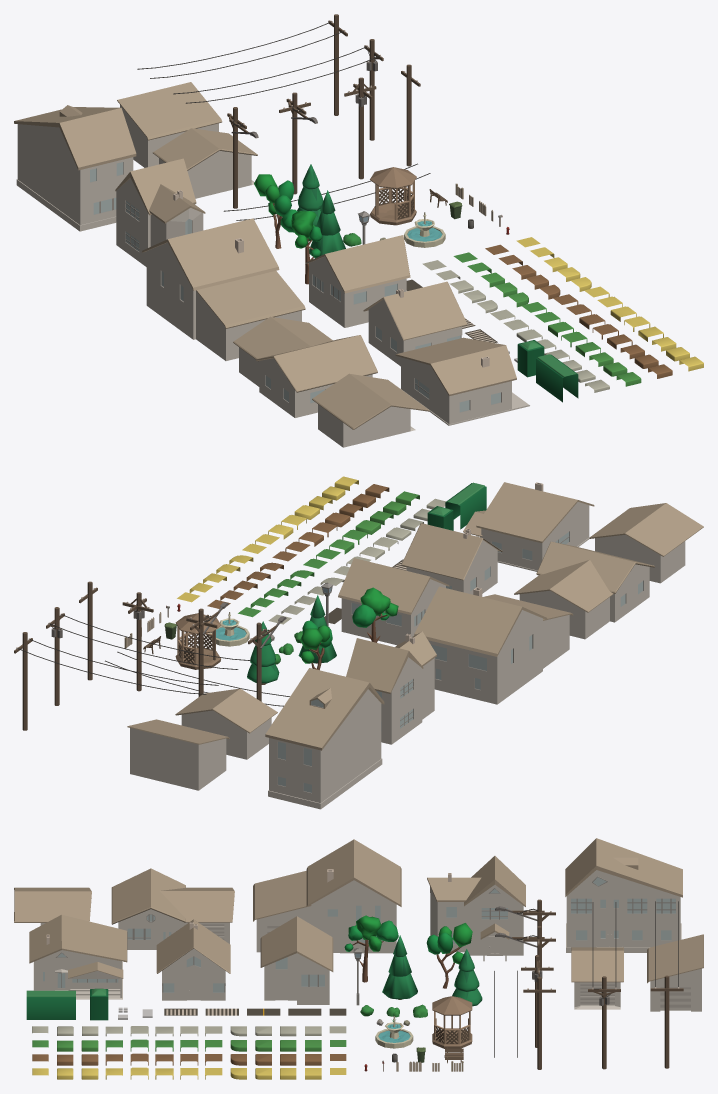
Rendered from LP_FlatTown_1.fbx.
3 renders of one model, top to bottom at view 1: azimuth 30°, elevation 25°; view 2: azimuth 150°, elevation 25°; view 3: azimuth 270°, elevation 25°, orthographic. The views are drawn at different scales.
Visible parts, largest first — view 1: House_1, House7, House4, House5, House2, House6, Garage2, House3, Garage1, Garage3, SummerHouse, F_Bush_mid (+12 smaller); view 2: House_1, House7, House4, House5, House6, Garage1, Garage2, House2, House3, Garage3, SummerHouse, Tree1 (+12 smaller); view 3: House7, House_1, House6, House5, House4, House2, House3, Garage1, Garage3, Garage2, SummerHouse, F_Bush_mid (+12 smaller).
Boxes of the visible parts, <box> form: House_1: <box>142,218,305,360</box>; House7: <box>14,105,136,231</box>; House4: <box>233,316,377,417</box>; House5: <box>395,337,529,425</box>; House2: <box>305,235,410,327</box>; House6: <box>115,158,205,266</box>; Garage2: <box>312,373,429,447</box>; House3: <box>363,281,467,366</box>; Garage1: <box>117,82,222,167</box>; Garage3: <box>152,128,257,198</box>; SummerHouse: <box>370,167,416,225</box>; F_Bush_mid: <box>536,354,578,402</box>; House_1: <box>414,586,573,704</box>; House7: <box>265,668,384,809</box>; House4: <box>514,541,654,639</box>; House5: <box>463,482,594,571</box>; House6: <box>346,631,436,744</box>; Garage1: <box>127,719,229,790</box>; Garage2: <box>589,503,703,583</box>; House2: <box>338,558,449,645</box>; House3: <box>401,523,502,594</box>; Garage3: <box>175,688,277,759</box>; SummerHouse: <box>175,613,221,669</box>; Tree1: <box>352,587,398,642</box>; House7: <box>565,838,682,952</box>; House_1: <box>253,839,401,953</box>; House6: <box>427,856,525,961</box>; House5: <box>29,914,127,999</box>; House4: <box>111,868,234,949</box>; House2: <box>260,916,333,1004</box>; House3: <box>156,919,230,1000</box>; Garage1: <box>647,934,703,1011</box>; Garage3: <box>571,947,623,1009</box>; Garage2: <box>14,887,91,925</box>; SummerHouse: <box>432,996,472,1048</box>; F_Bush_mid: <box>26,990,75,1019</box>.
Size of the model in its own units: 4674 by 1257 by 8351.
